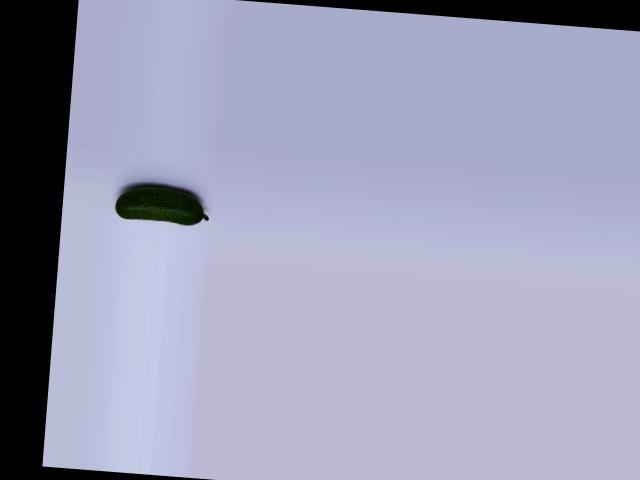cucumber: (113, 183, 210, 226)
